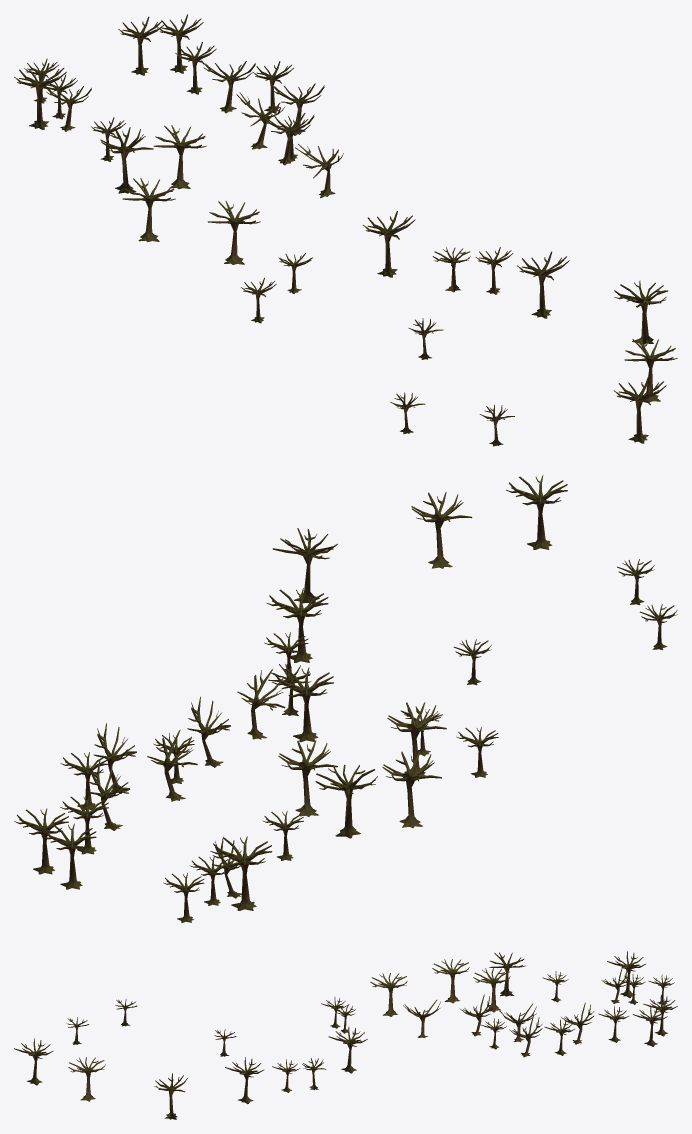
The model's file is Tree_Block1.FBX.
3 renders of one model, top to bottom at view 1: azimuth 30°, elevation 25°; view 2: azimuth 150°, elevation 25°; view 3: azimuth 270°, elevation 25°, orthographic. The views are drawn at different scales.
Visible parts, largest first — view 1: Tree:Tree108; view 2: Tree:Tree108; view 3: Tree:Tree108.
Boxes of the visible parts, bbox=[...] form: Tree:Tree108: bbox=[14, 14, 677, 446]; Tree:Tree108: bbox=[14, 475, 677, 922]; Tree:Tree108: bbox=[14, 951, 677, 1119].
Bounding box in the file's own units: 146 × 41.65 × 355.
